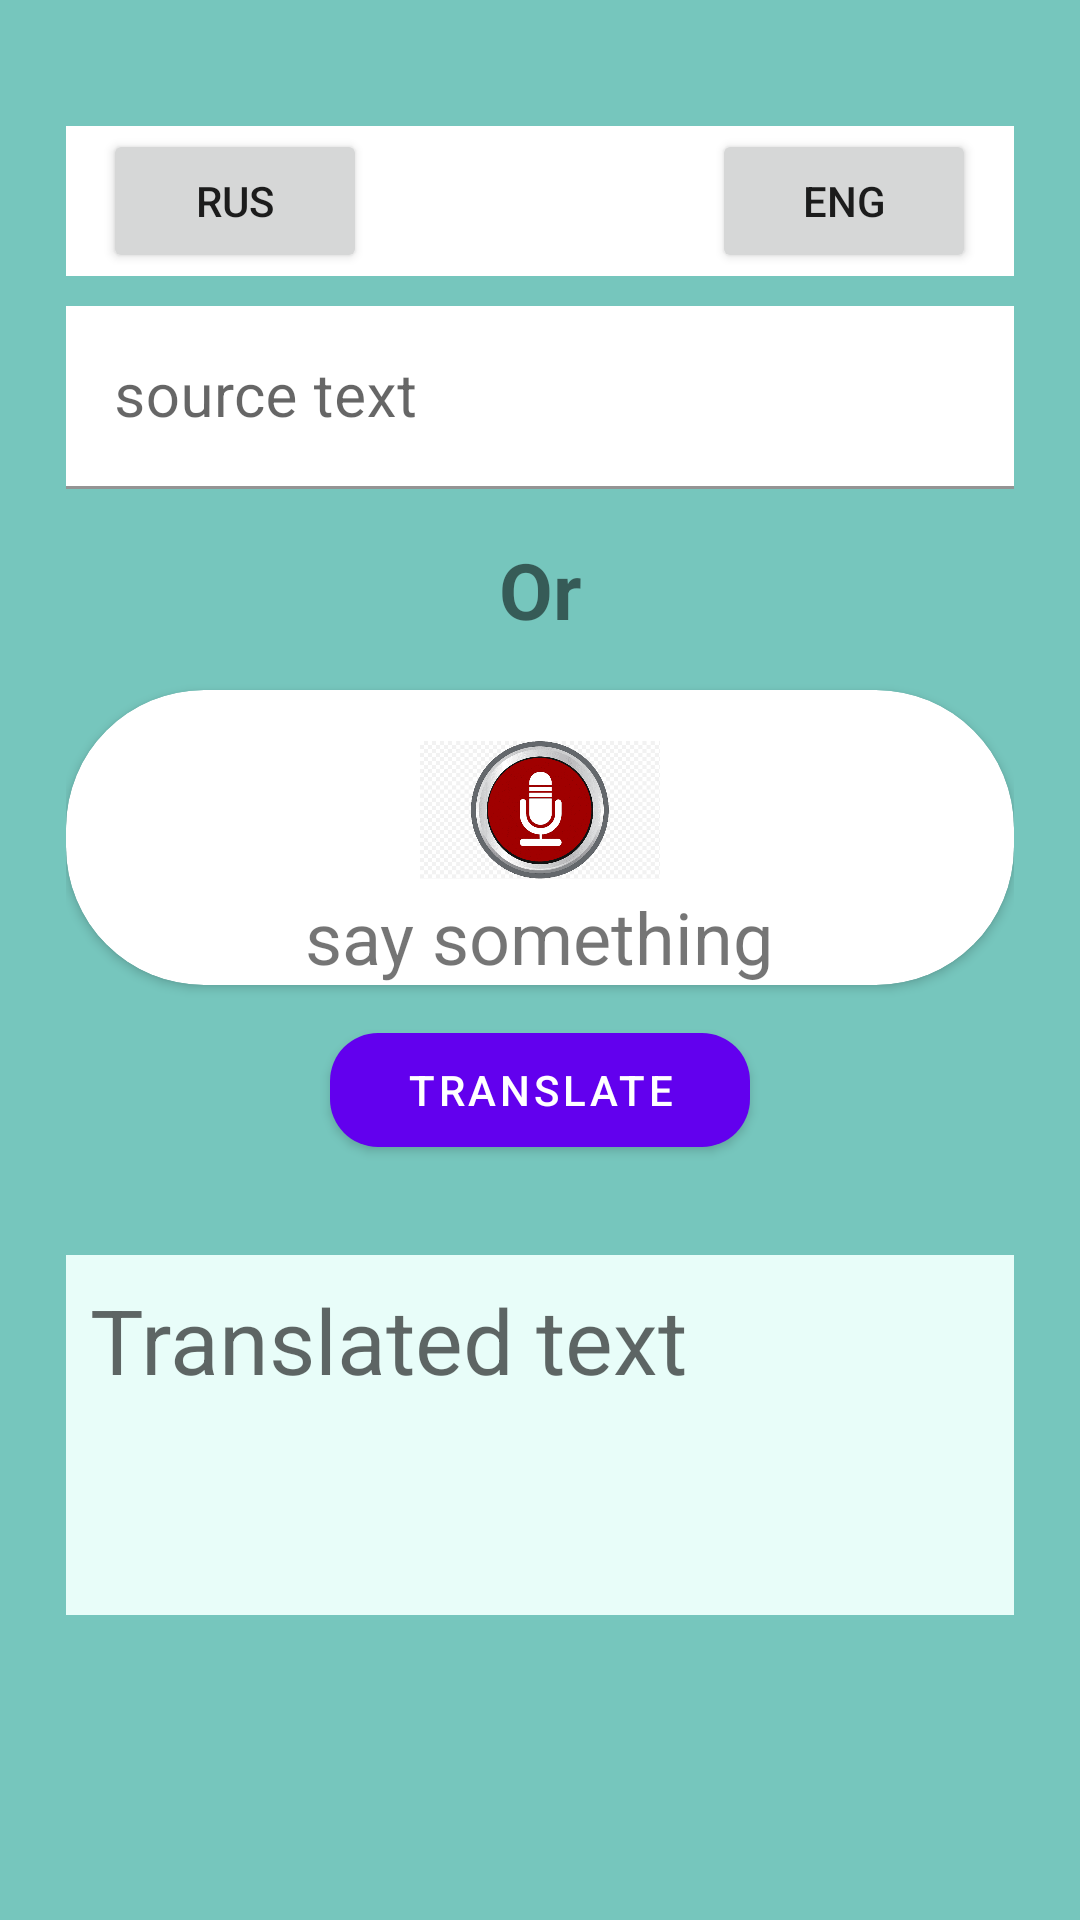

Point at icon controls on the screen. Image size 1080px×1920px, points as (x,y).
microphon: (540,810)
